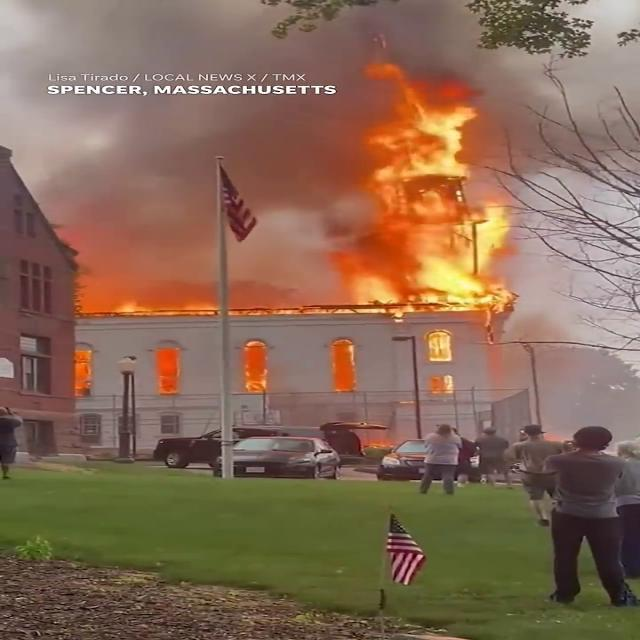Fire: (328, 64, 534, 323)
Smoke: (0, 0, 356, 268), (445, 26, 640, 188)
